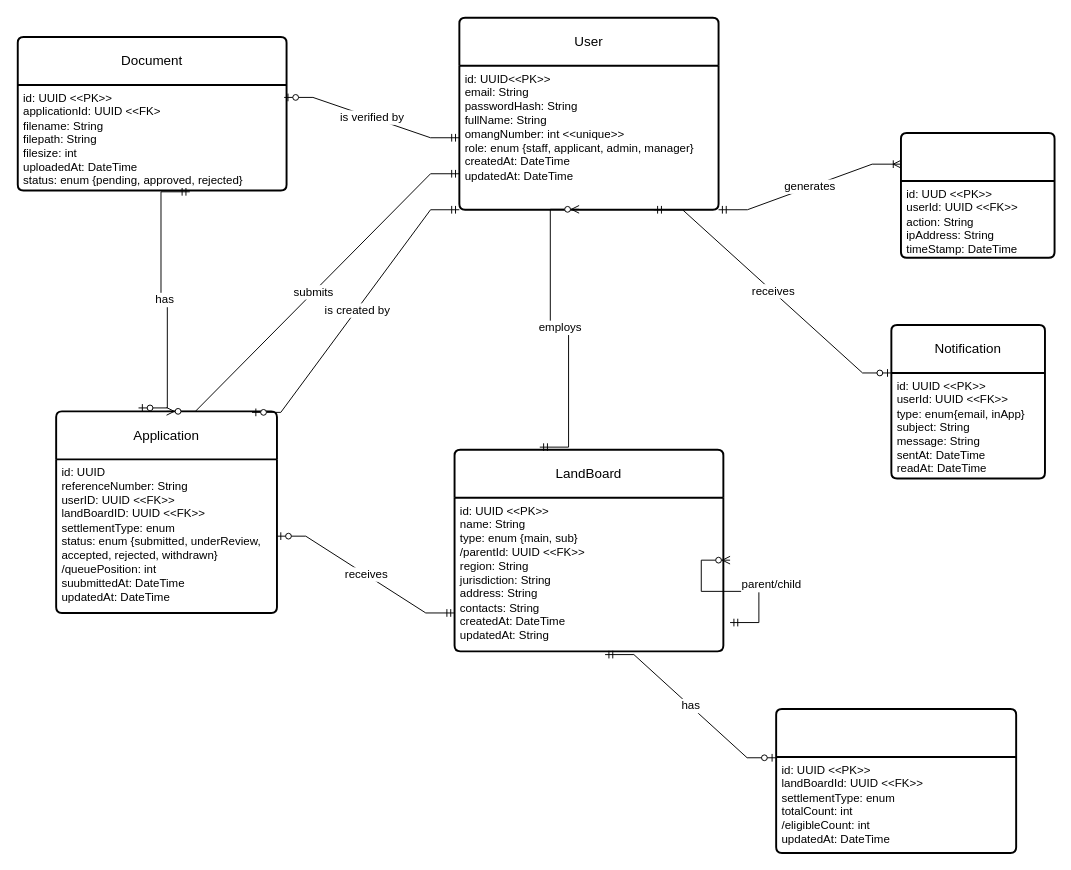
The diagram is 1071 pixels wide and 870 high, and some of its shapes have lost their labels. The box of each missing label's shape, as (x1, y1, x2, y2) in pixels:
AuditLog: (900, 132, 1055, 258)
WaitListStats: (775, 708, 1017, 853)
